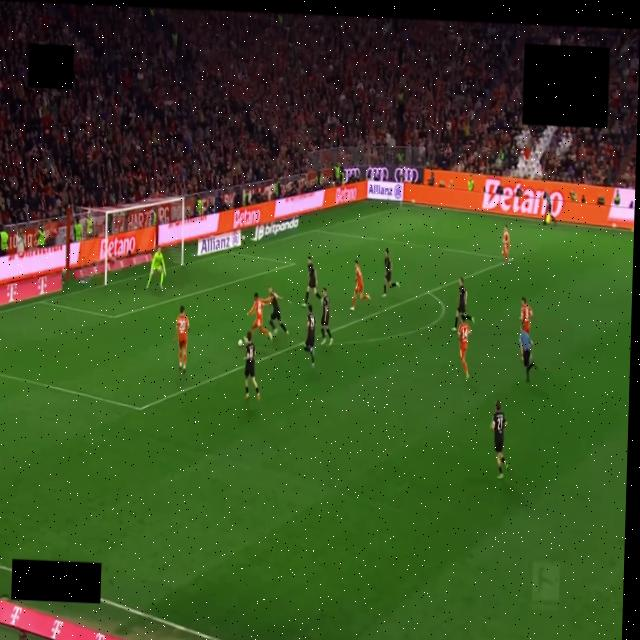ball: (238, 339, 242, 346)
player: (491, 401, 509, 479), (452, 277, 474, 332), (263, 286, 288, 334), (247, 293, 272, 340), (244, 331, 260, 400), (173, 305, 189, 373), (350, 260, 370, 311), (302, 257, 321, 306), (147, 247, 165, 289), (383, 249, 398, 296), (304, 305, 315, 367), (458, 323, 470, 378), (321, 287, 332, 345), (520, 296, 533, 334), (501, 224, 510, 262)
referee: (520, 327, 535, 382)
